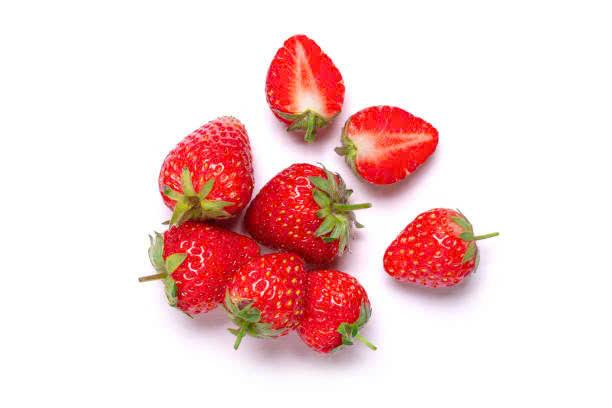strawberry: (252, 163, 359, 264), (155, 117, 251, 222), (380, 203, 490, 294), (262, 29, 345, 144), (333, 103, 442, 187), (232, 253, 308, 339)
